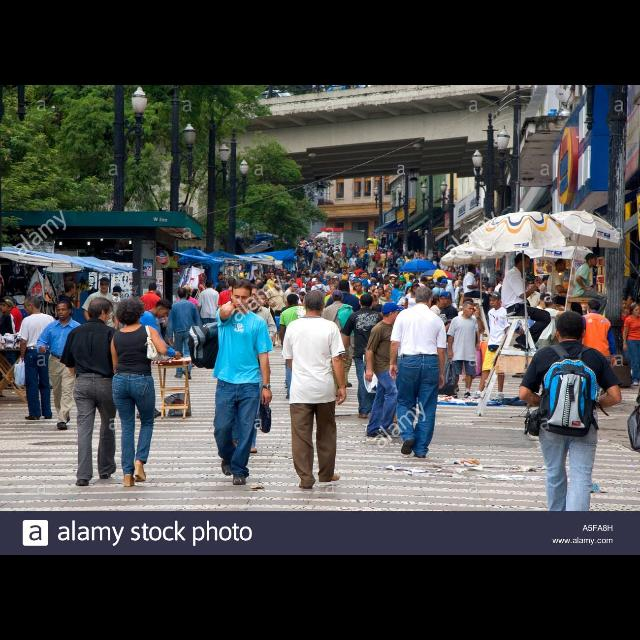head: (554, 311, 586, 343), (87, 298, 113, 326), (302, 290, 328, 318), (230, 281, 252, 311), (415, 286, 433, 310), (155, 298, 173, 320), (514, 253, 532, 273), (56, 300, 72, 322), (384, 304, 401, 324), (23, 296, 39, 316), (156, 300, 172, 320), (358, 295, 374, 309), (462, 302, 476, 318), (0, 299, 14, 313), (255, 292, 267, 308), (490, 293, 502, 309), (441, 292, 452, 308), (64, 282, 76, 296), (286, 294, 300, 306), (433, 295, 445, 309), (588, 300, 600, 314), (338, 280, 350, 294), (100, 277, 110, 293), (256, 291, 266, 307), (332, 291, 344, 303), (586, 254, 598, 266), (556, 260, 568, 272), (3, 296, 15, 308), (620, 296, 628, 312), (182, 286, 192, 298), (526, 282, 538, 292), (468, 264, 477, 276), (148, 282, 158, 292), (177, 288, 187, 298), (227, 279, 237, 289), (620, 299, 628, 311), (154, 290, 162, 300), (384, 290, 394, 298), (206, 281, 214, 289), (274, 282, 282, 290), (291, 284, 299, 292), (299, 292, 307, 300), (330, 286, 338, 294), (368, 284, 376, 292), (372, 290, 380, 298), (378, 286, 384, 296), (219, 272, 225, 280), (394, 283, 401, 289), (312, 279, 318, 285)
person: (518, 312, 624, 538), (278, 288, 348, 490), (110, 297, 182, 488), (59, 295, 130, 487), (211, 279, 273, 485), (386, 285, 449, 459), (34, 298, 94, 432), (128, 299, 184, 426), (339, 293, 389, 421), (362, 302, 406, 442), (17, 294, 61, 422), (502, 252, 554, 352), (575, 298, 617, 416), (278, 292, 318, 400), (472, 292, 510, 404), (82, 276, 124, 376), (317, 290, 358, 390), (165, 287, 203, 383), (240, 286, 278, 376), (448, 302, 482, 402), (327, 279, 361, 359), (250, 291, 280, 379), (436, 292, 460, 396), (574, 252, 608, 321), (54, 280, 78, 376), (0, 295, 24, 389), (176, 284, 202, 368), (261, 278, 289, 350), (140, 282, 166, 358), (615, 292, 635, 388), (196, 280, 220, 356), (520, 279, 546, 349), (548, 258, 578, 318), (218, 276, 240, 356), (612, 296, 630, 386), (1, 298, 18, 392), (463, 264, 491, 320), (427, 294, 445, 374), (148, 290, 170, 354), (286, 291, 308, 343), (283, 284, 301, 342), (308, 276, 329, 324), (323, 285, 342, 333), (376, 288, 394, 334), (386, 283, 404, 329), (213, 271, 227, 315), (364, 284, 378, 320), (373, 284, 385, 326), (369, 289, 381, 327)
